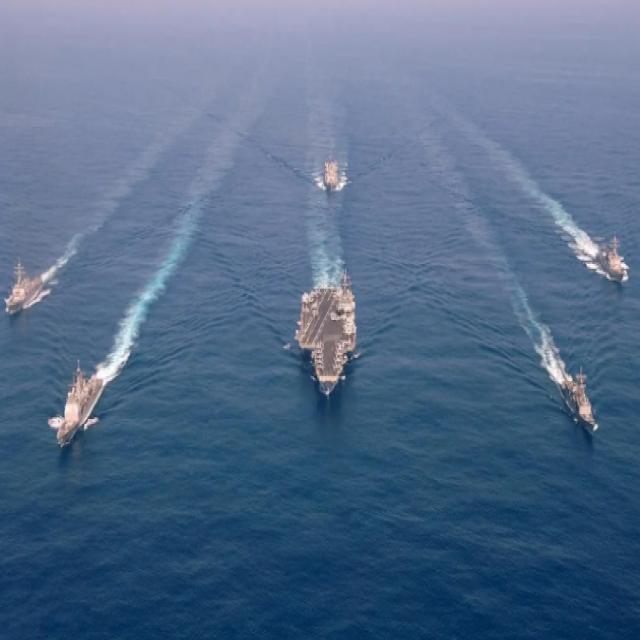navalvessels: (294, 255, 358, 392), (51, 362, 109, 454), (550, 355, 595, 444), (1, 260, 44, 321), (595, 231, 628, 288), (318, 143, 346, 186)
